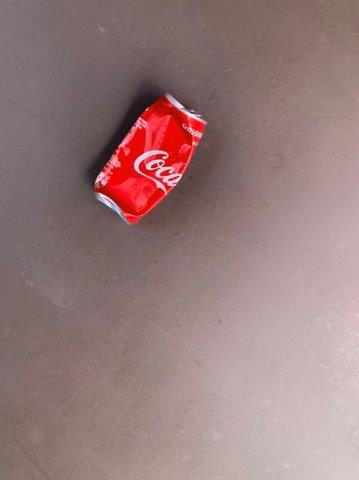kaleng: (95, 94, 206, 224)
